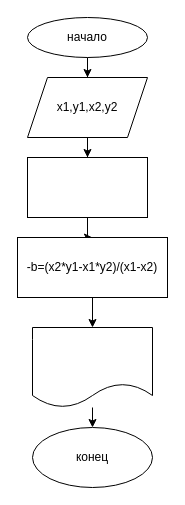
Image size: 185x505. Some labels were removed from this diagram. Each missing label, with the centre of its shape:
-k=(y2-y1)/(x1-x2): point (87, 187)
y=kx+b: point (92, 367)
